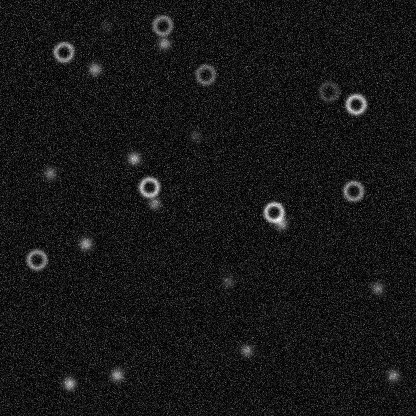Ring: (193, 62, 217, 86), (24, 247, 48, 271), (316, 79, 340, 103), (137, 174, 161, 198), (150, 13, 174, 37), (51, 39, 75, 63), (341, 178, 365, 202), (343, 92, 367, 116), (261, 200, 285, 224)
Spot: (238, 342, 254, 358), (273, 215, 289, 231), (125, 150, 141, 166), (187, 127, 203, 143), (61, 375, 77, 391), (146, 195, 162, 211), (86, 60, 102, 76), (108, 366, 124, 382), (77, 235, 93, 251), (41, 165, 57, 181), (369, 280, 385, 296), (156, 35, 172, 51), (98, 18, 114, 34), (385, 367, 401, 383), (219, 273, 235, 289)
